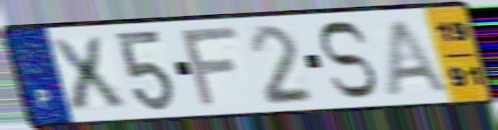2: (248, 22, 317, 107)
5: (110, 29, 178, 113)
A: (382, 16, 455, 95)
F: (178, 23, 243, 111)
S: (315, 18, 380, 102)
X: (44, 34, 130, 114)
